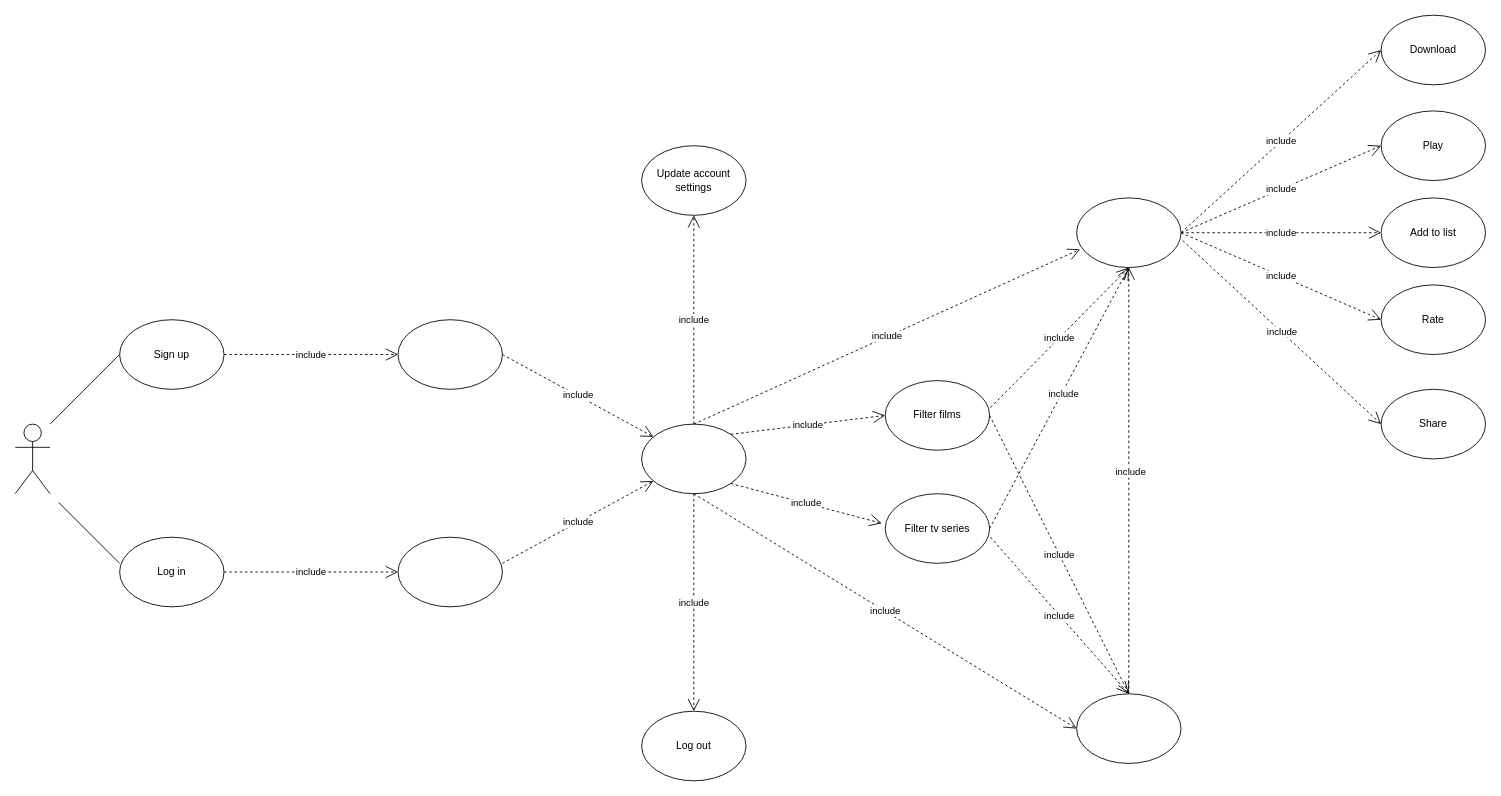
Image size: 1501x796. Some labels were removed from this diagram. The shapes that lost their labels are listed below. From the top down, each one's centre as x and y in pixels, then its label:
At (x=1128, y=232): "Select a content".
At (x=449, y=354): "User account finalization".
At (x=32, y=458): "User".
At (x=693, y=458): "Display home".
At (x=449, y=571): "Select profile".
At (x=1128, y=728): "Select category".
